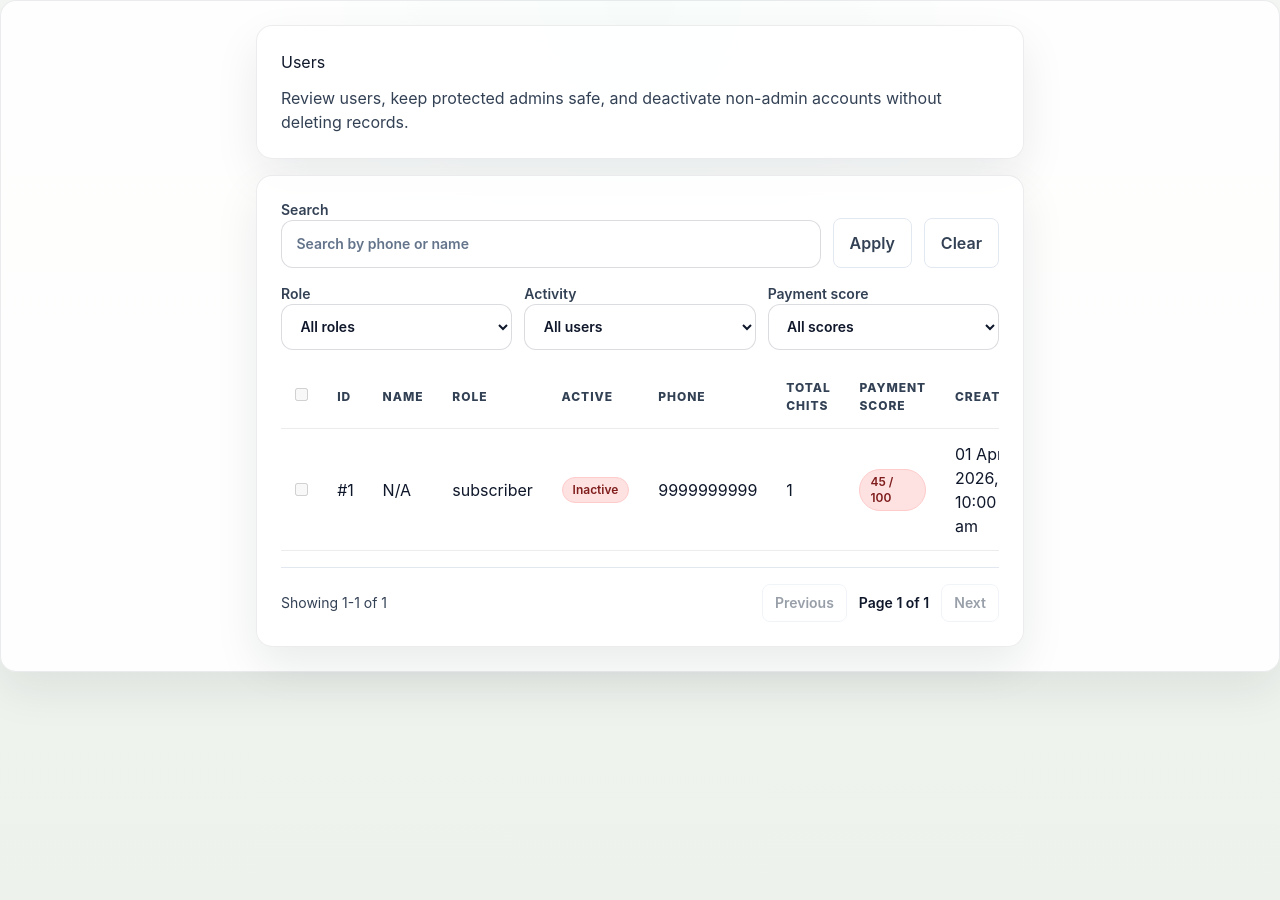
Test case: UsersPage lets admins refine the directory by payment score range
This screenshot has width=1280, height=900.
Expected: the text "9999999999" is shown, [644,428,772,551]
Step 1. Select "80-100" in the dropdown labelled "Payment score" → (883, 327), box [768,304,999,350]
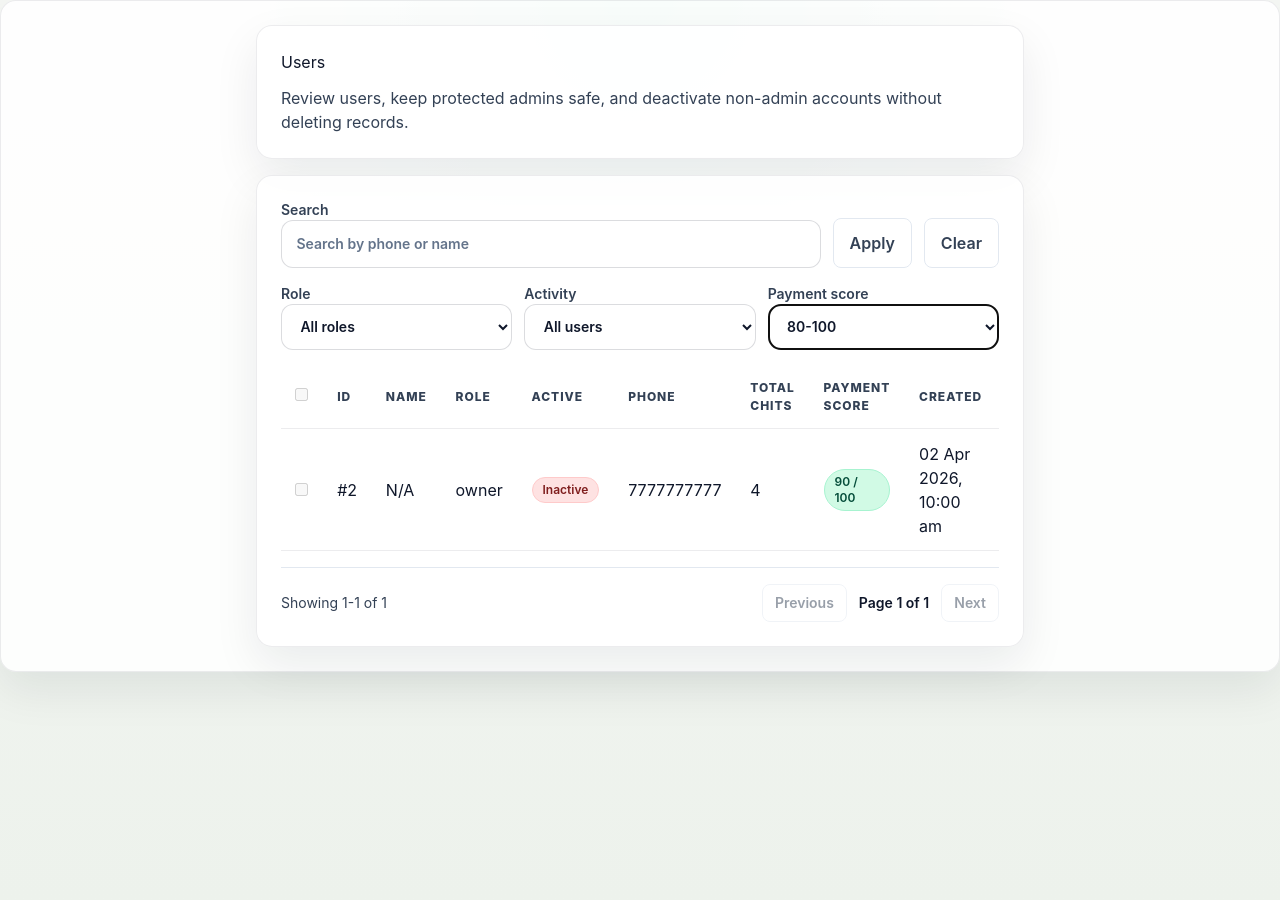
Result: the text "7777777777" is shown at [614,428,736,551]
